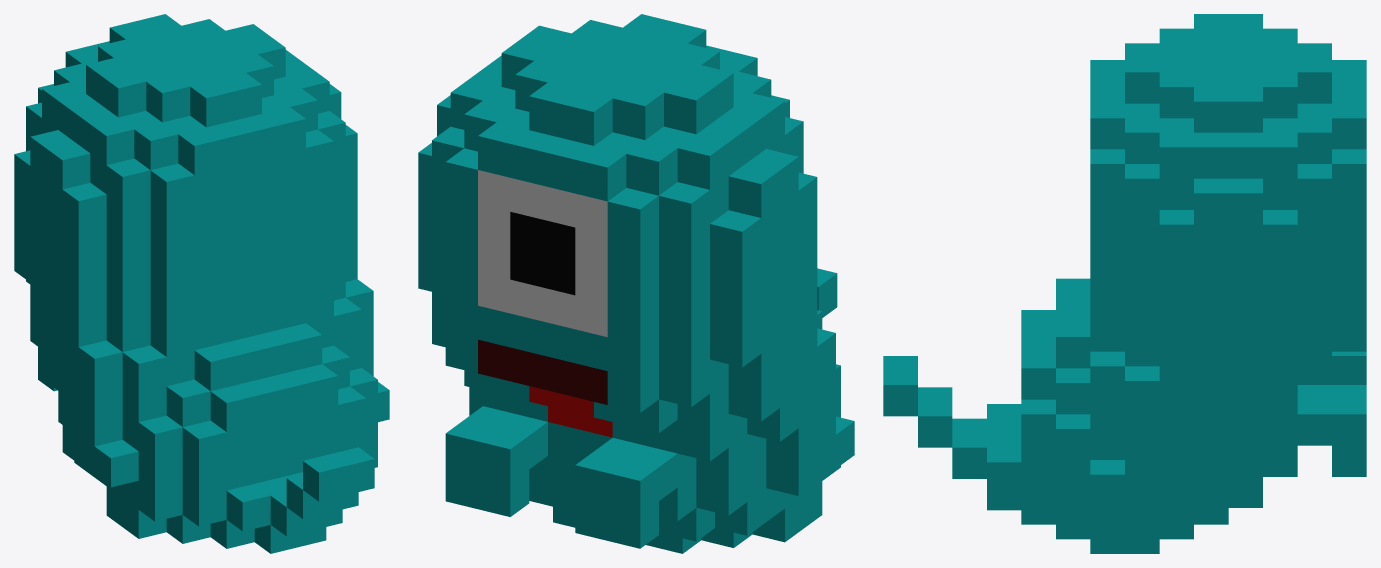
Rendered from obake.obj.
The picture shows the model from 3 angles, left to right: view 1: azimuth 30°, elevation 25°; view 2: azimuth 150°, elevation 25°; view 3: azimuth 270°, elevation 25°; orthographic projection. The views are drawn at different scales.
Visible parts, largest first — view 1: Cube.170_Cube.171; view 2: Cube.170_Cube.171; view 3: Cube.170_Cube.171.
Part boxes in pixels (bbox=[...]): Cube.170_Cube.171: bbox=[14, 14, 389, 553]; Cube.170_Cube.171: bbox=[418, 14, 854, 553]; Cube.170_Cube.171: bbox=[883, 14, 1366, 553].
Bounding box in the file's own units: 0.625 × 0.875 × 0.875.
